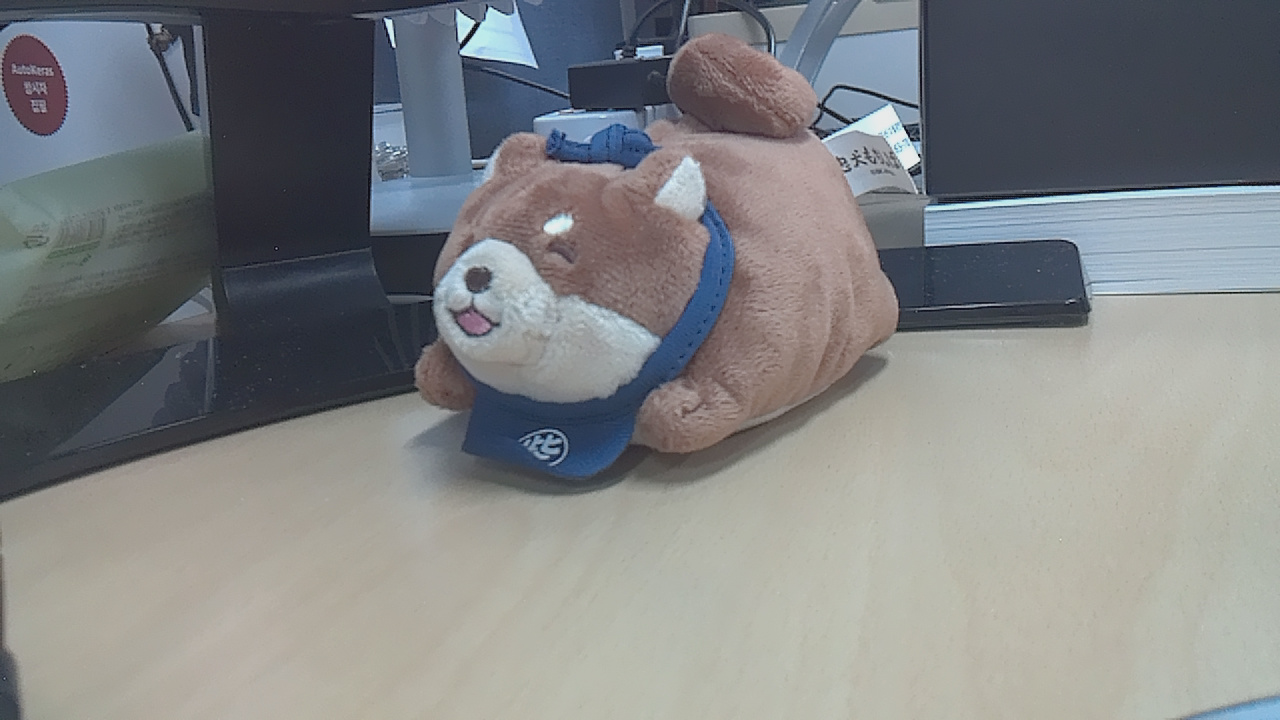cuteDog: (432, 59, 929, 504)
